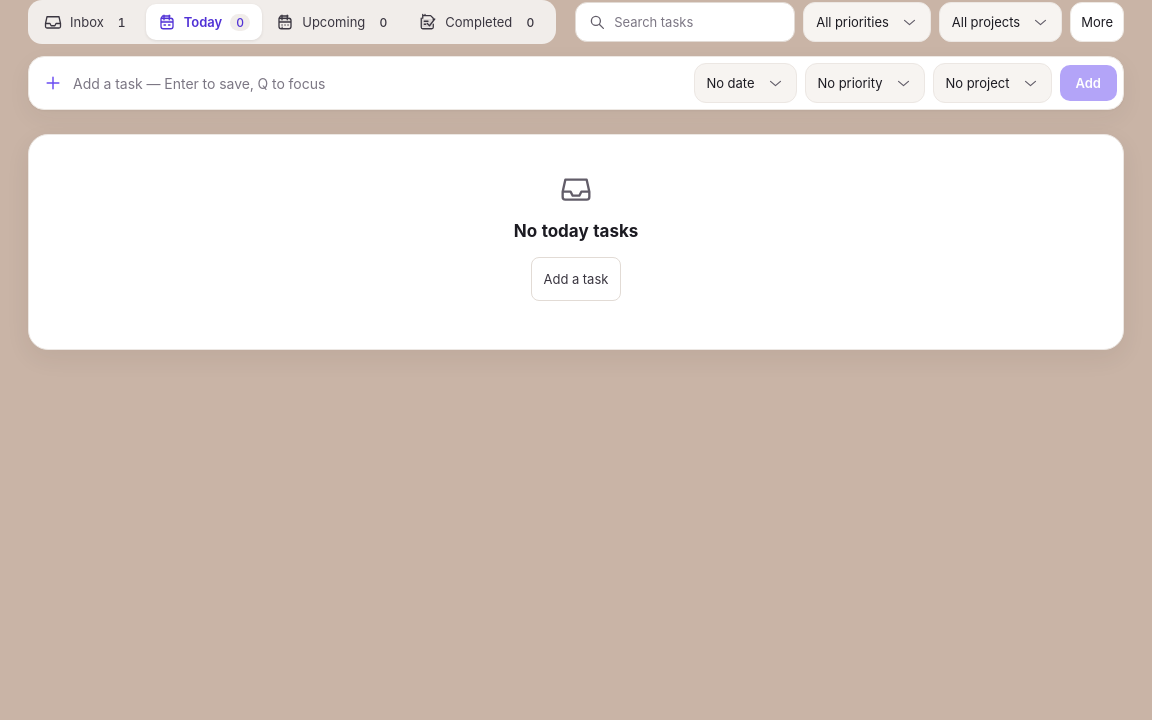
Test: Tasks workspace › opens the editor from Open task: Plan launch
Click the tab with aria-label "Inbox". click: (88, 22)
box: x1=32 y1=4 x2=144 y2=40
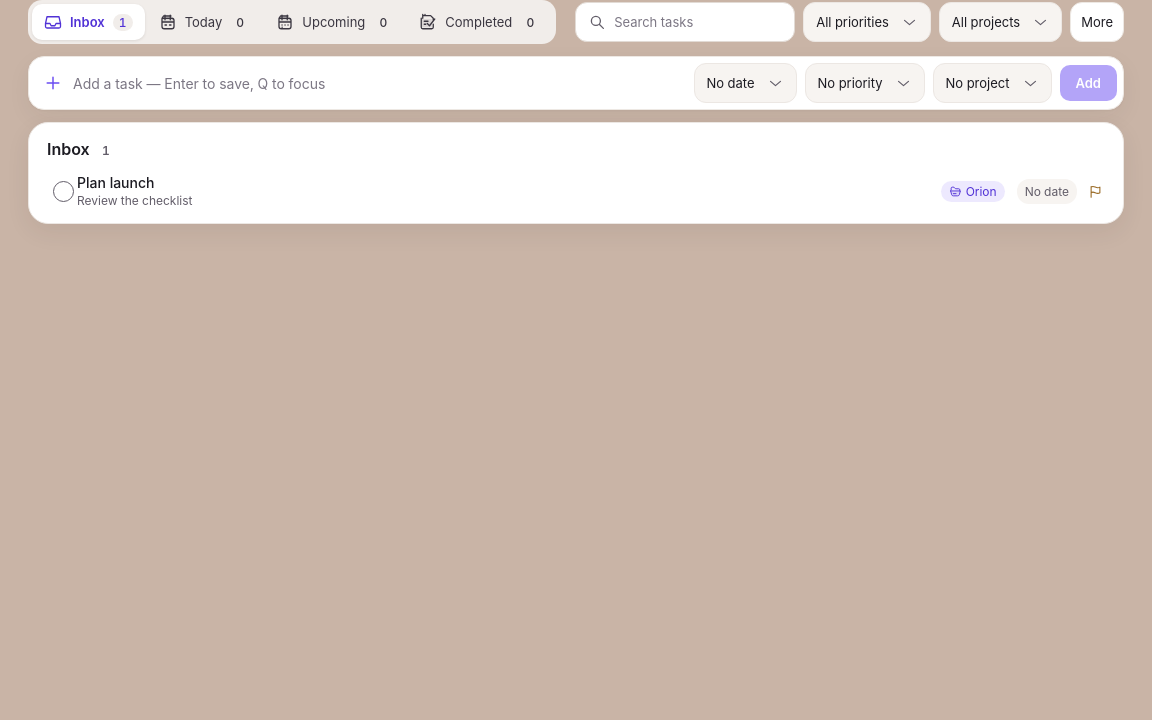
Click the button "Plan launch Review the checklist". click: (116, 182)
box: x1=77 y1=173 x2=933 y2=209
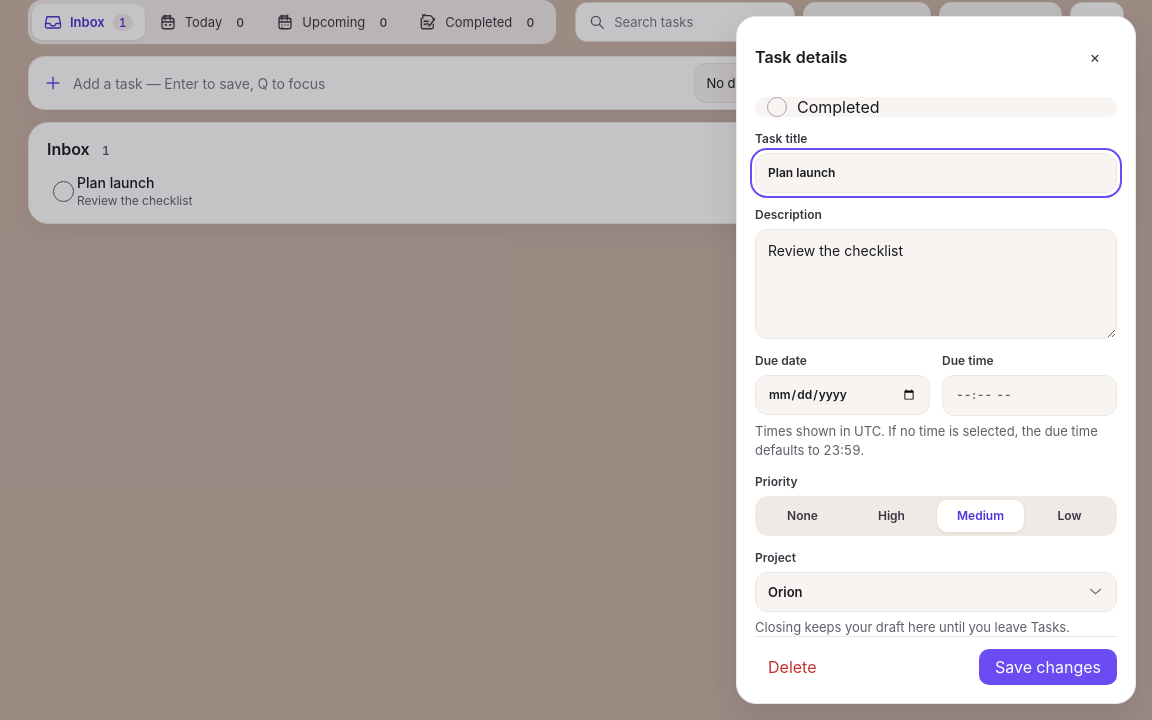
Expected: the dialog is shown, x1=736 y1=16 x2=1136 y2=704
Expected: the dialog shows "Task details", x1=755 y1=47 x2=847 y2=67
Expected: the field labelled "Task title" holds "Plan launch", x1=755 y1=153 x2=1117 y2=193
Click the button "×". click: (1095, 57)
box: x1=1073 y1=35 x2=1117 y2=79
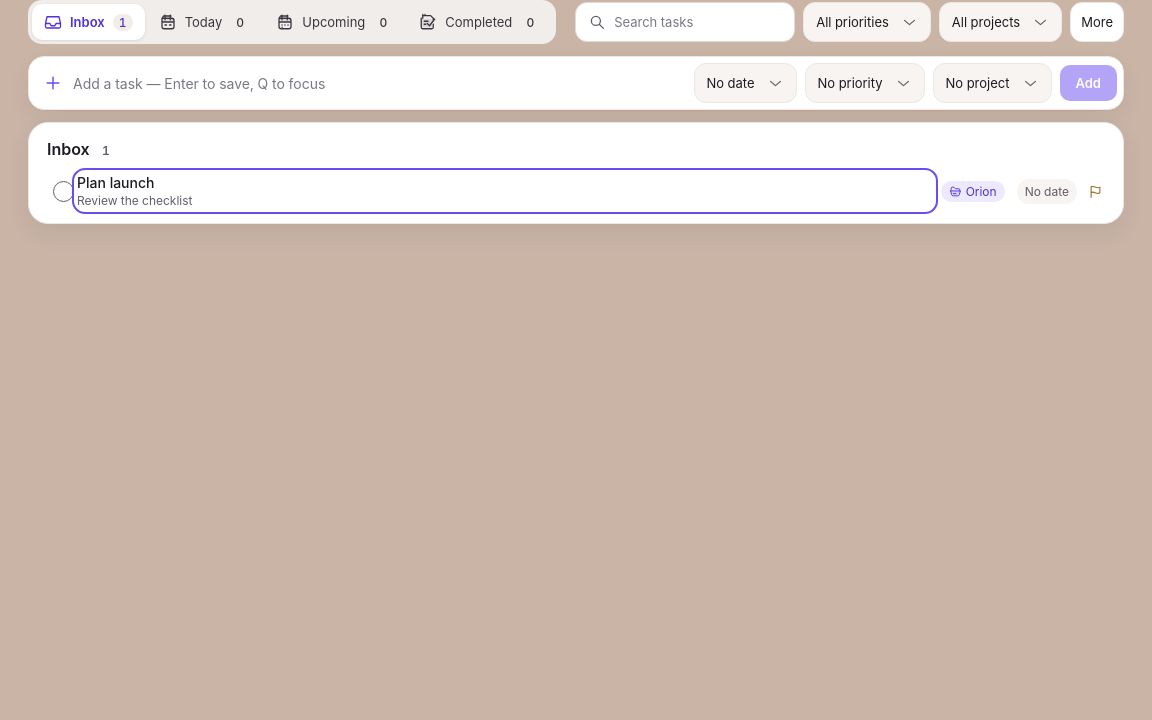
Expected: the dialog is gone
